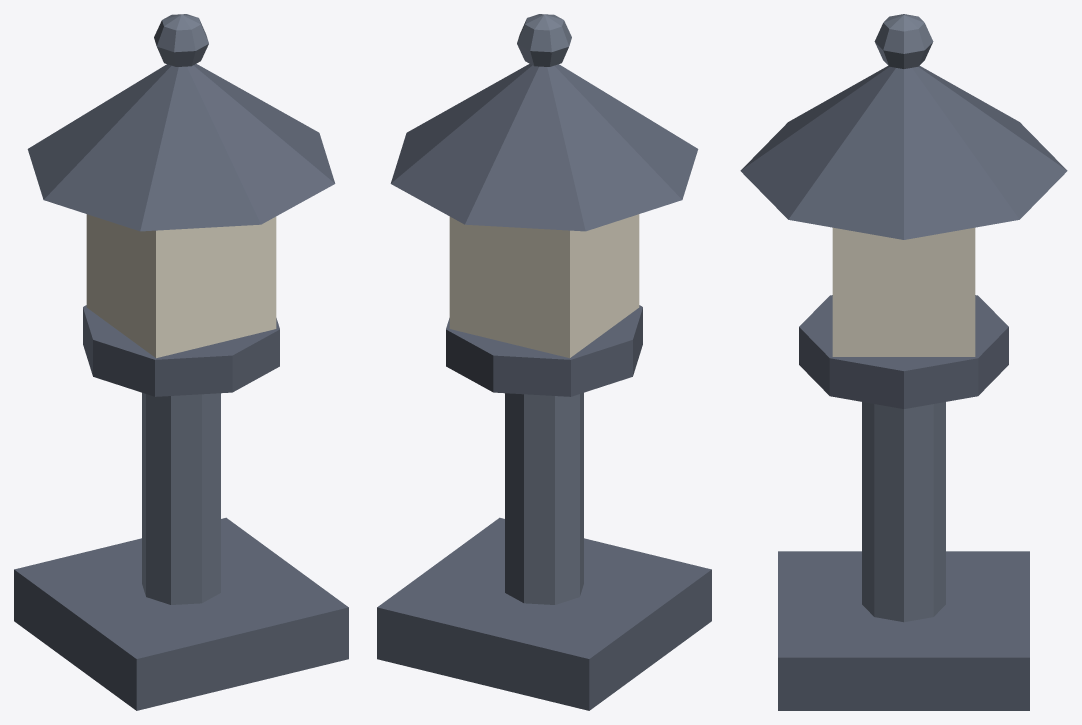
File: stone_lantern.glb
The picture shows the model from 3 angles, left to right: view 1: azimuth 30°, elevation 25°; view 2: azimuth 150°, elevation 25°; view 3: azimuth 270°, elevation 25°; orthographic projection. The views are drawn at different scales.
Visible parts, largest first — view 1: stone_lantern; view 2: stone_lantern; view 3: stone_lantern.
Boxes of the visible parts, <box> form: stone_lantern: <box>14,14,348,710</box>; stone_lantern: <box>377,14,711,710</box>; stone_lantern: <box>740,14,1067,710</box>.
Size of the model in its own units: 0.78 by 1.69 by 0.78.
